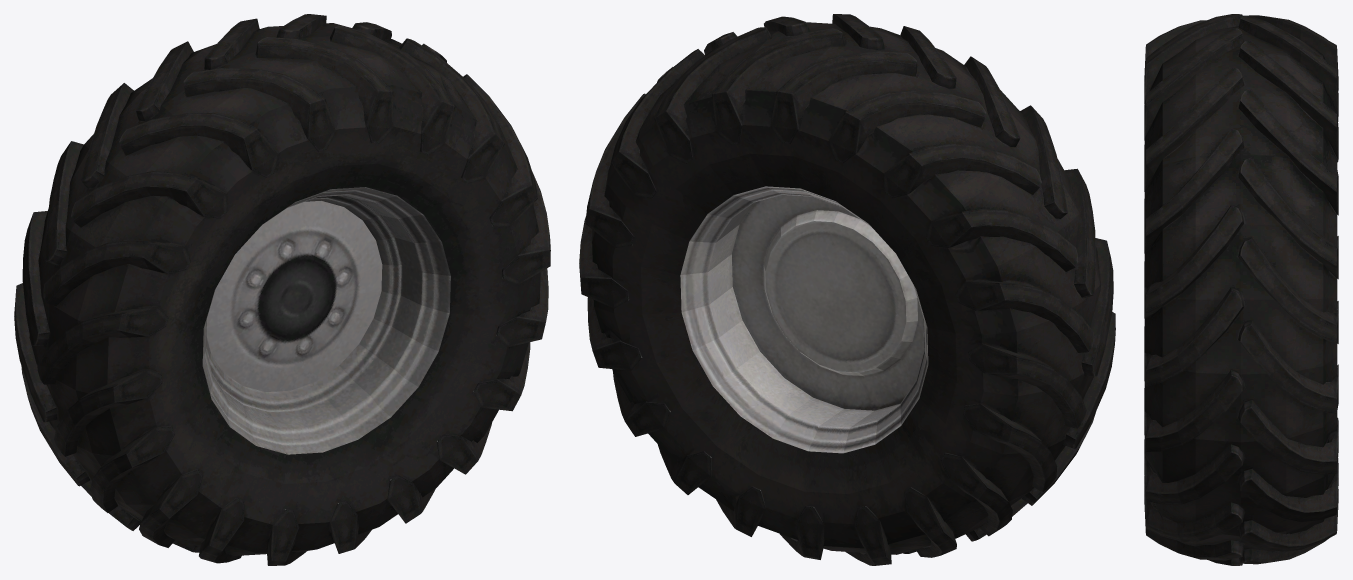
File: r6_rear.glb
3 views of the same model, side by side, from view 1: azimuth 30°, elevation 25°; view 2: azimuth 150°, elevation 25°; view 3: azimuth 270°, elevation 25° (orthographic). The views are drawn at different scales.
Visible parts, largest first — view 1: r6_rear; view 2: r6_rear; view 3: r6_rear.
Boxes of the visible parts, x1,y1,x2,y2 form: r6_rear: (14,14,550,565); r6_rear: (579,14,1115,565); r6_rear: (1144,14,1338,565).
Bounding box in the file's own units: 1 × 1 × 0.3521.
1 material, 1 textured.
